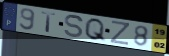8: (132, 25, 150, 48)
9: (19, 8, 36, 32)
Q: (83, 17, 107, 43)
S: (64, 14, 85, 39)
T: (41, 11, 58, 34)
Z: (109, 19, 130, 46)
